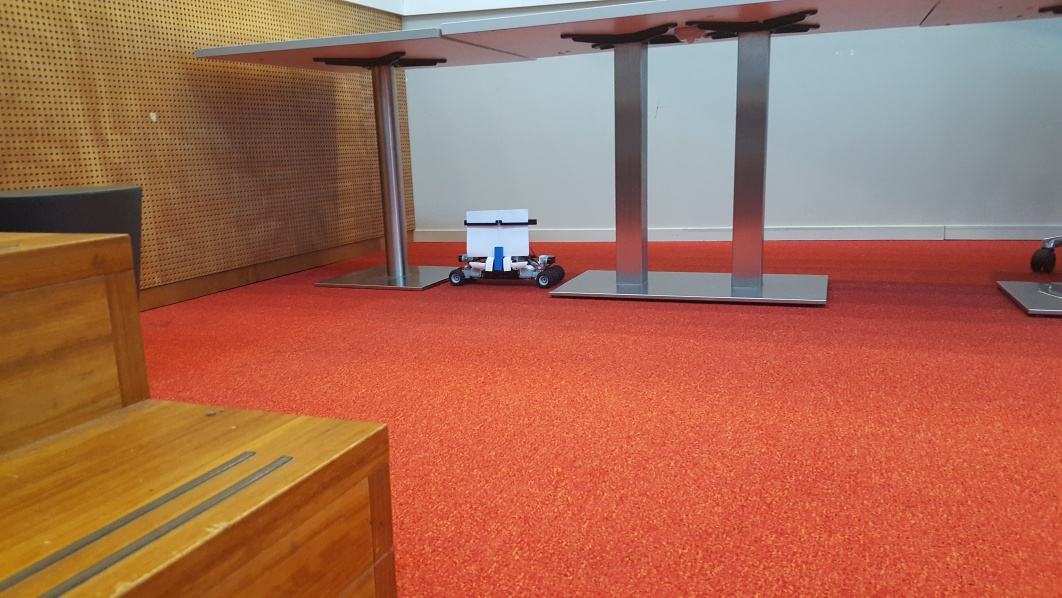car: (447, 207, 566, 289)
